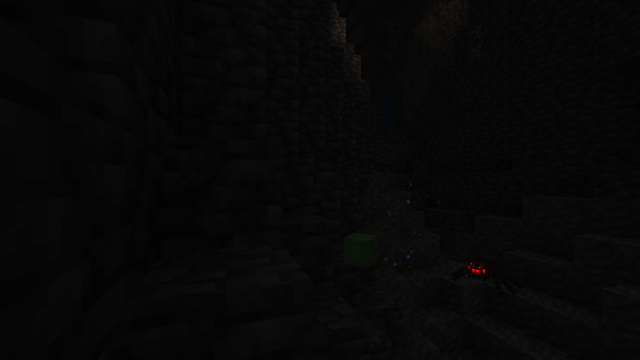araignees: (452, 250, 518, 294)
slimes: (343, 232, 379, 267)
